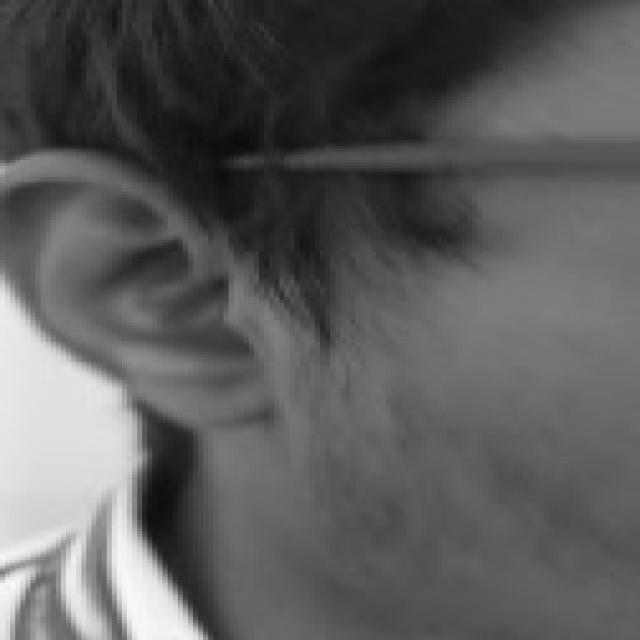ear: (0, 151, 264, 426)
